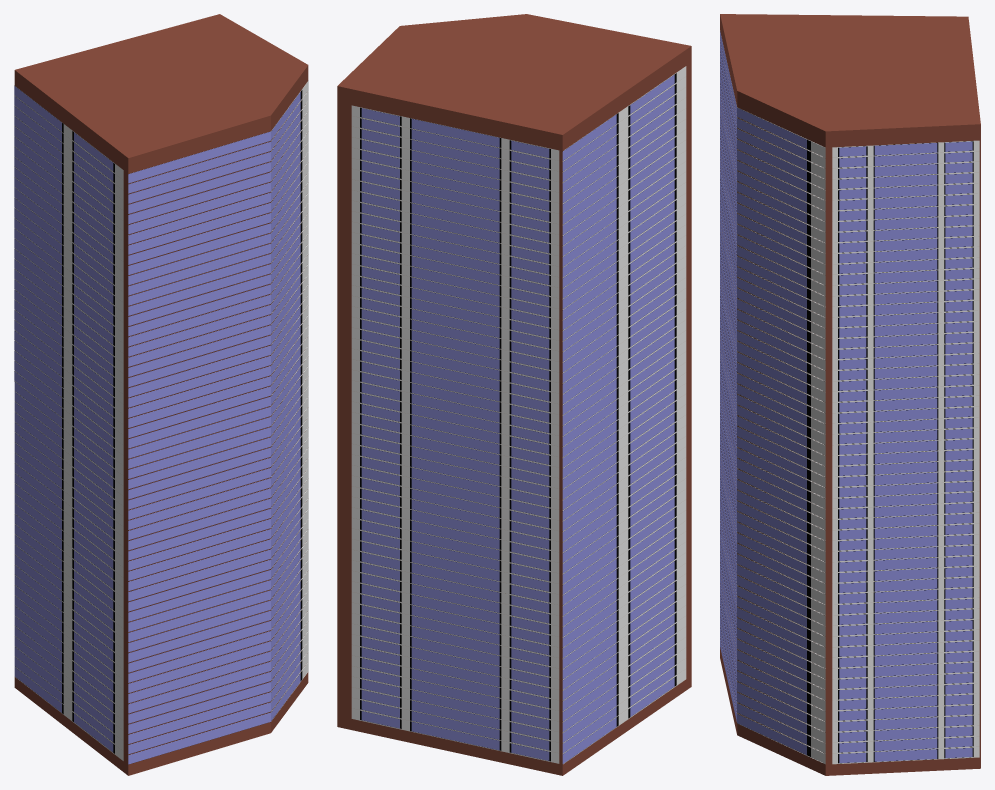
Rendered from BlackwoodTower.fbx.
3 views of the same model, side by side, from view 1: azimuth 30°, elevation 25°; view 2: azimuth 150°, elevation 25°; view 3: azimuth 270°, elevation 25° (orthographic). The views are drawn at different scales.
Visible parts, largest first — view 1: Window, Window.003, BlackwoodTower; view 2: Window.002, Window.003, BlackwoodTower; view 3: Window.001, Window, BlackwoodTower.
Boxes of the visible parts, bbox=[...] form: Window: bbox=[128, 81, 308, 764]; Window.003: bbox=[14, 85, 123, 760]; BlackwoodTower: bbox=[14, 14, 308, 775]; Window.002: bbox=[351, 105, 559, 763]; Window.003: bbox=[562, 66, 686, 764]; BlackwoodTower: bbox=[337, 14, 691, 775]; Window.001: bbox=[832, 140, 979, 764]; Window: bbox=[720, 31, 825, 764]; BlackwoodTower: bbox=[720, 14, 980, 775].
Bounding box in the file's own units: 4831 × 12361 × 4534.
